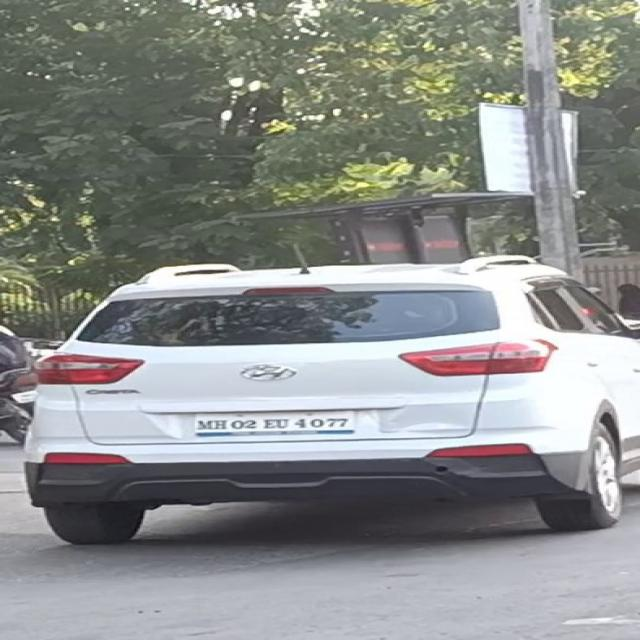Plate: (193, 410, 355, 433)
